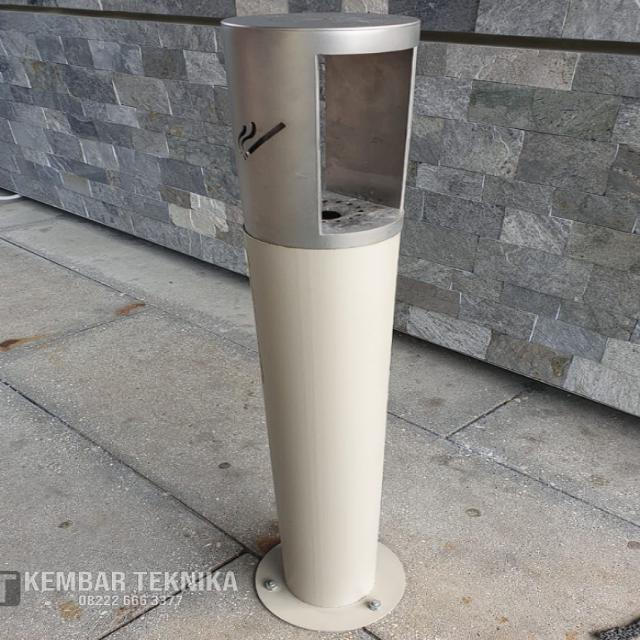obstacle: (218, 8, 417, 626)
